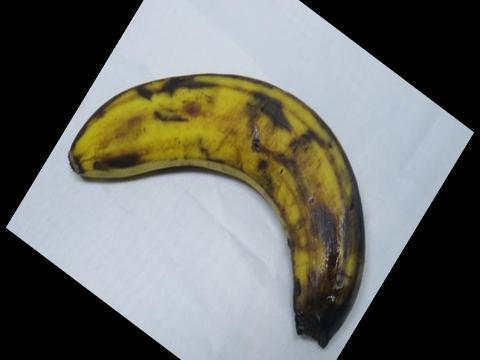overripe: (71, 56, 372, 359)
rotten: (270, 194, 386, 348)
